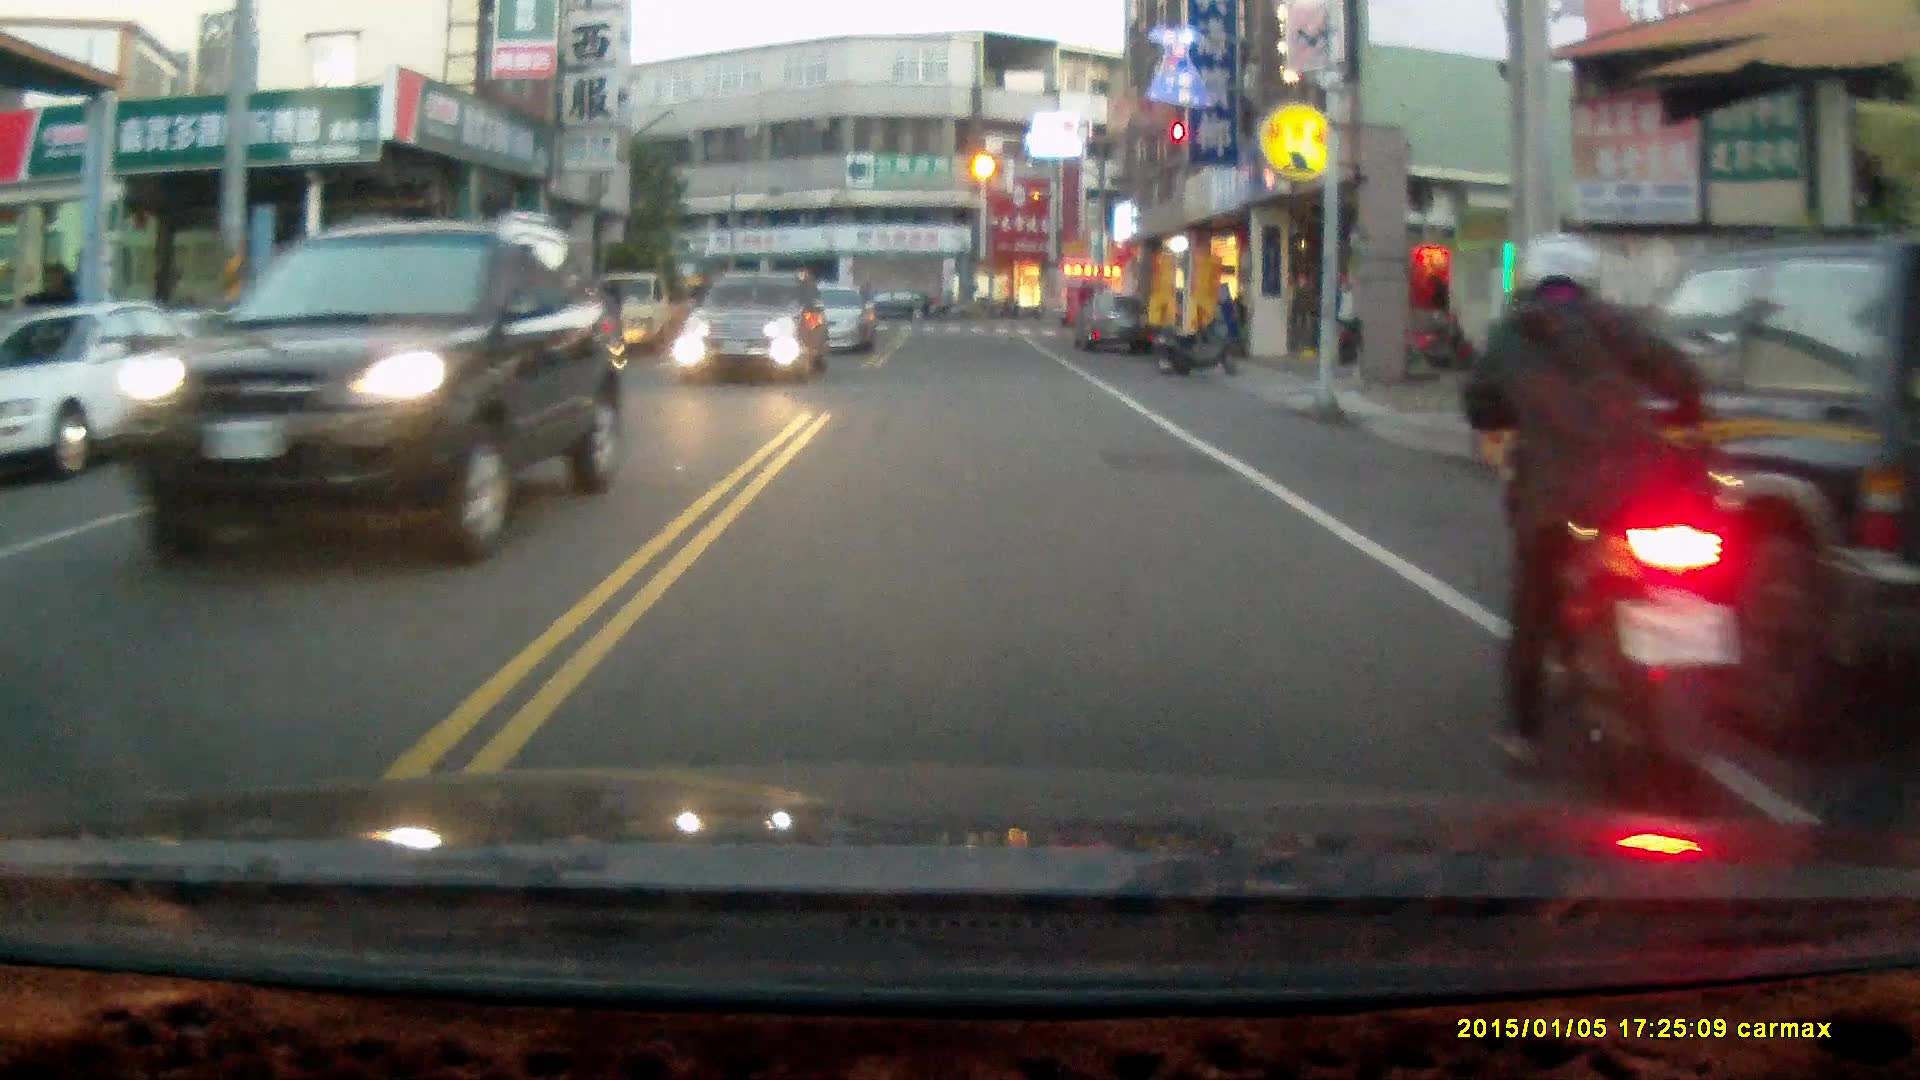pedestrian: (593, 278, 623, 368)
rider: (1458, 234, 1754, 814)
vehicle: (1525, 243, 1920, 724), (120, 212, 626, 565), (1, 295, 237, 477), (678, 268, 827, 385), (767, 278, 877, 355), (1075, 290, 1152, 357)
